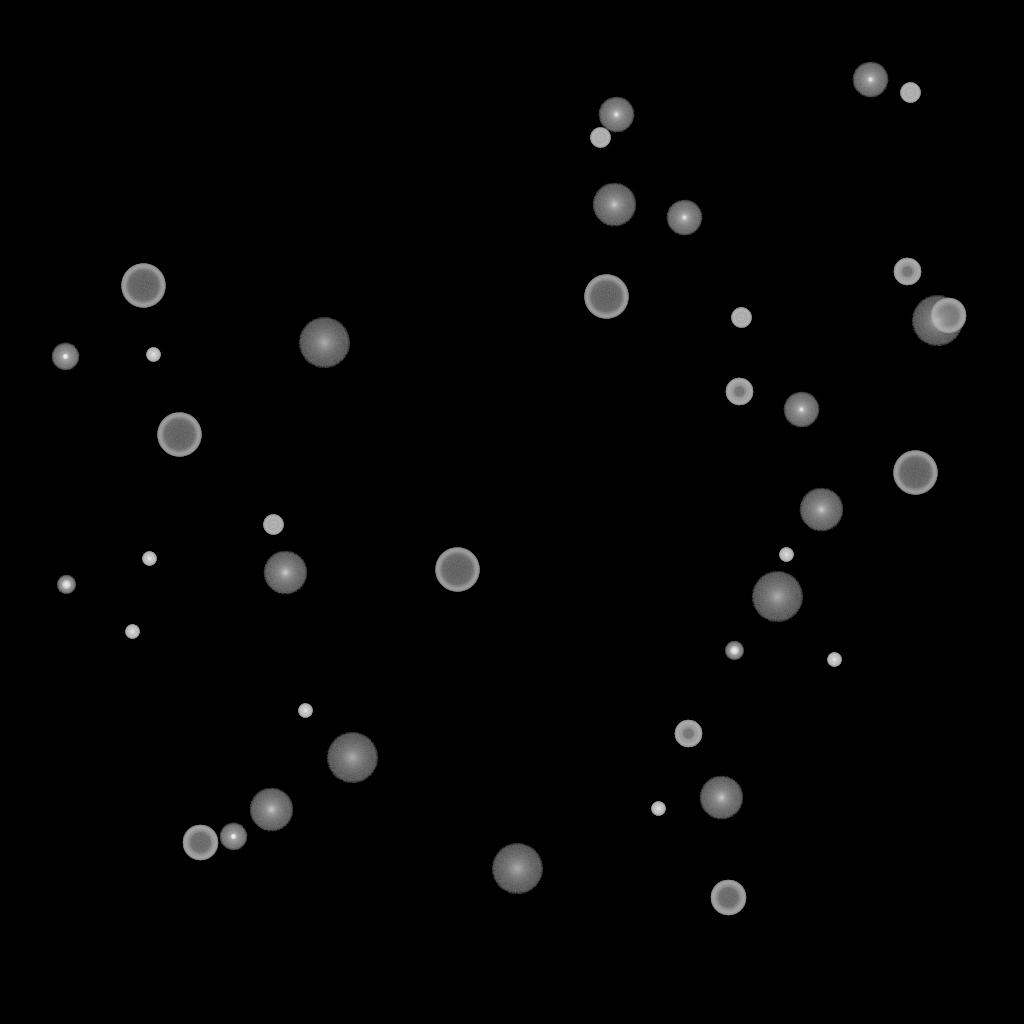depth:-10: (219, 823, 247, 851), (51, 343, 79, 371)
depth:-20: (725, 642, 743, 660), (57, 576, 75, 594)
depth:-30: (142, 552, 156, 566), (651, 802, 665, 816), (146, 348, 160, 362), (298, 704, 312, 718), (125, 625, 139, 639), (827, 653, 841, 667), (779, 548, 793, 562)
depth:-40: (900, 83, 920, 103), (590, 128, 610, 148), (731, 308, 751, 328), (263, 515, 283, 535)
depth:-50: (893, 258, 921, 286), (725, 378, 753, 406), (674, 720, 702, 748)
depth:-60: (710, 880, 746, 916), (930, 298, 966, 334), (182, 825, 218, 861)
depth:-70: (157, 413, 201, 457), (584, 275, 628, 319), (121, 264, 165, 308), (435, 548, 479, 592), (893, 451, 937, 495)
depth:0: (852, 62, 888, 98), (666, 200, 702, 236), (598, 97, 634, 133), (783, 392, 819, 428)
depth:10: (249, 788, 293, 832), (592, 183, 636, 227), (699, 776, 743, 820), (799, 488, 843, 532), (263, 551, 307, 595)
depth:20: (751, 572, 803, 622), (326, 733, 378, 783), (911, 296, 963, 346), (491, 844, 543, 894), (298, 318, 350, 368)
